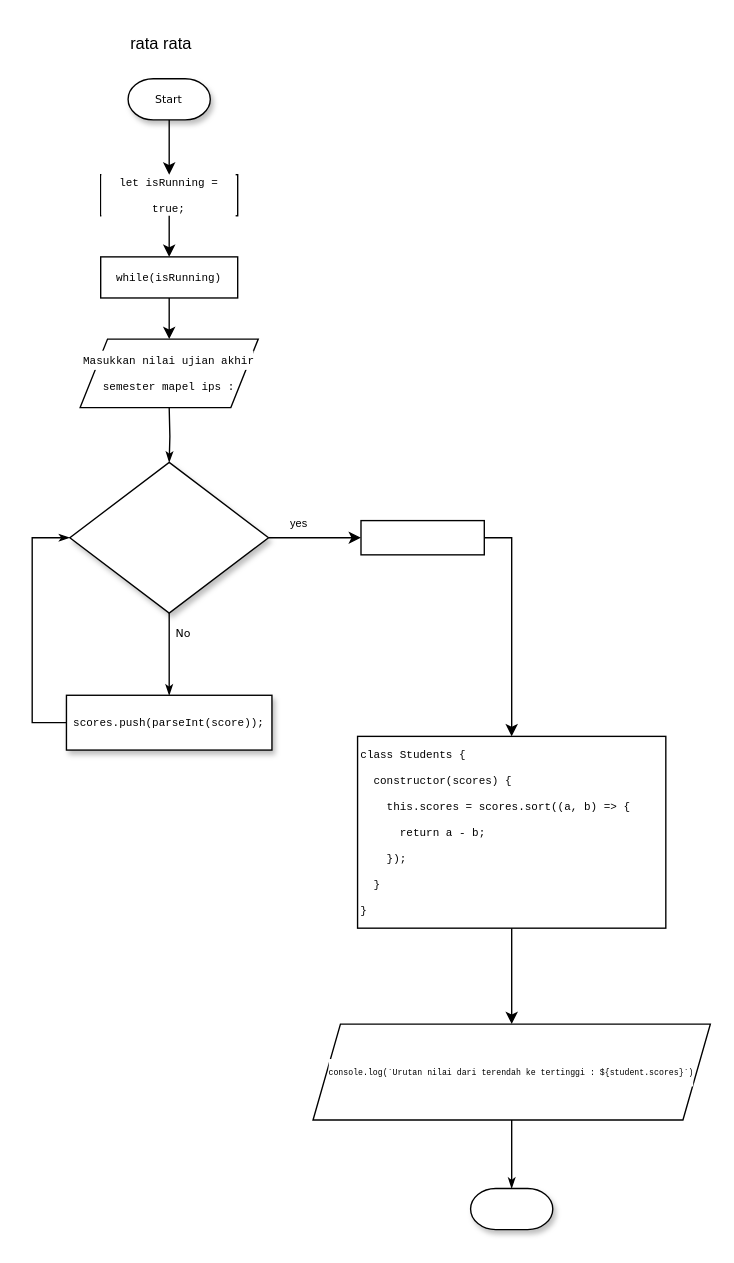
This 734x1263 diagram has some shape labels left out. The centre of each missing label's shape, as x and y in pixels:
"End" belongs at (x=512, y=1210).
"if (score.toLowerCase() === 'q')" belongs at (x=170, y=539).
"isRunning = false;" belongs at (x=422, y=537).
